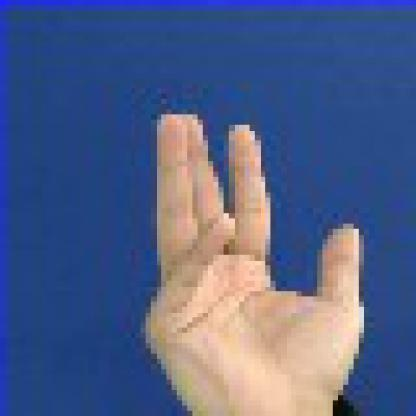nine: (83, 67, 411, 410)
